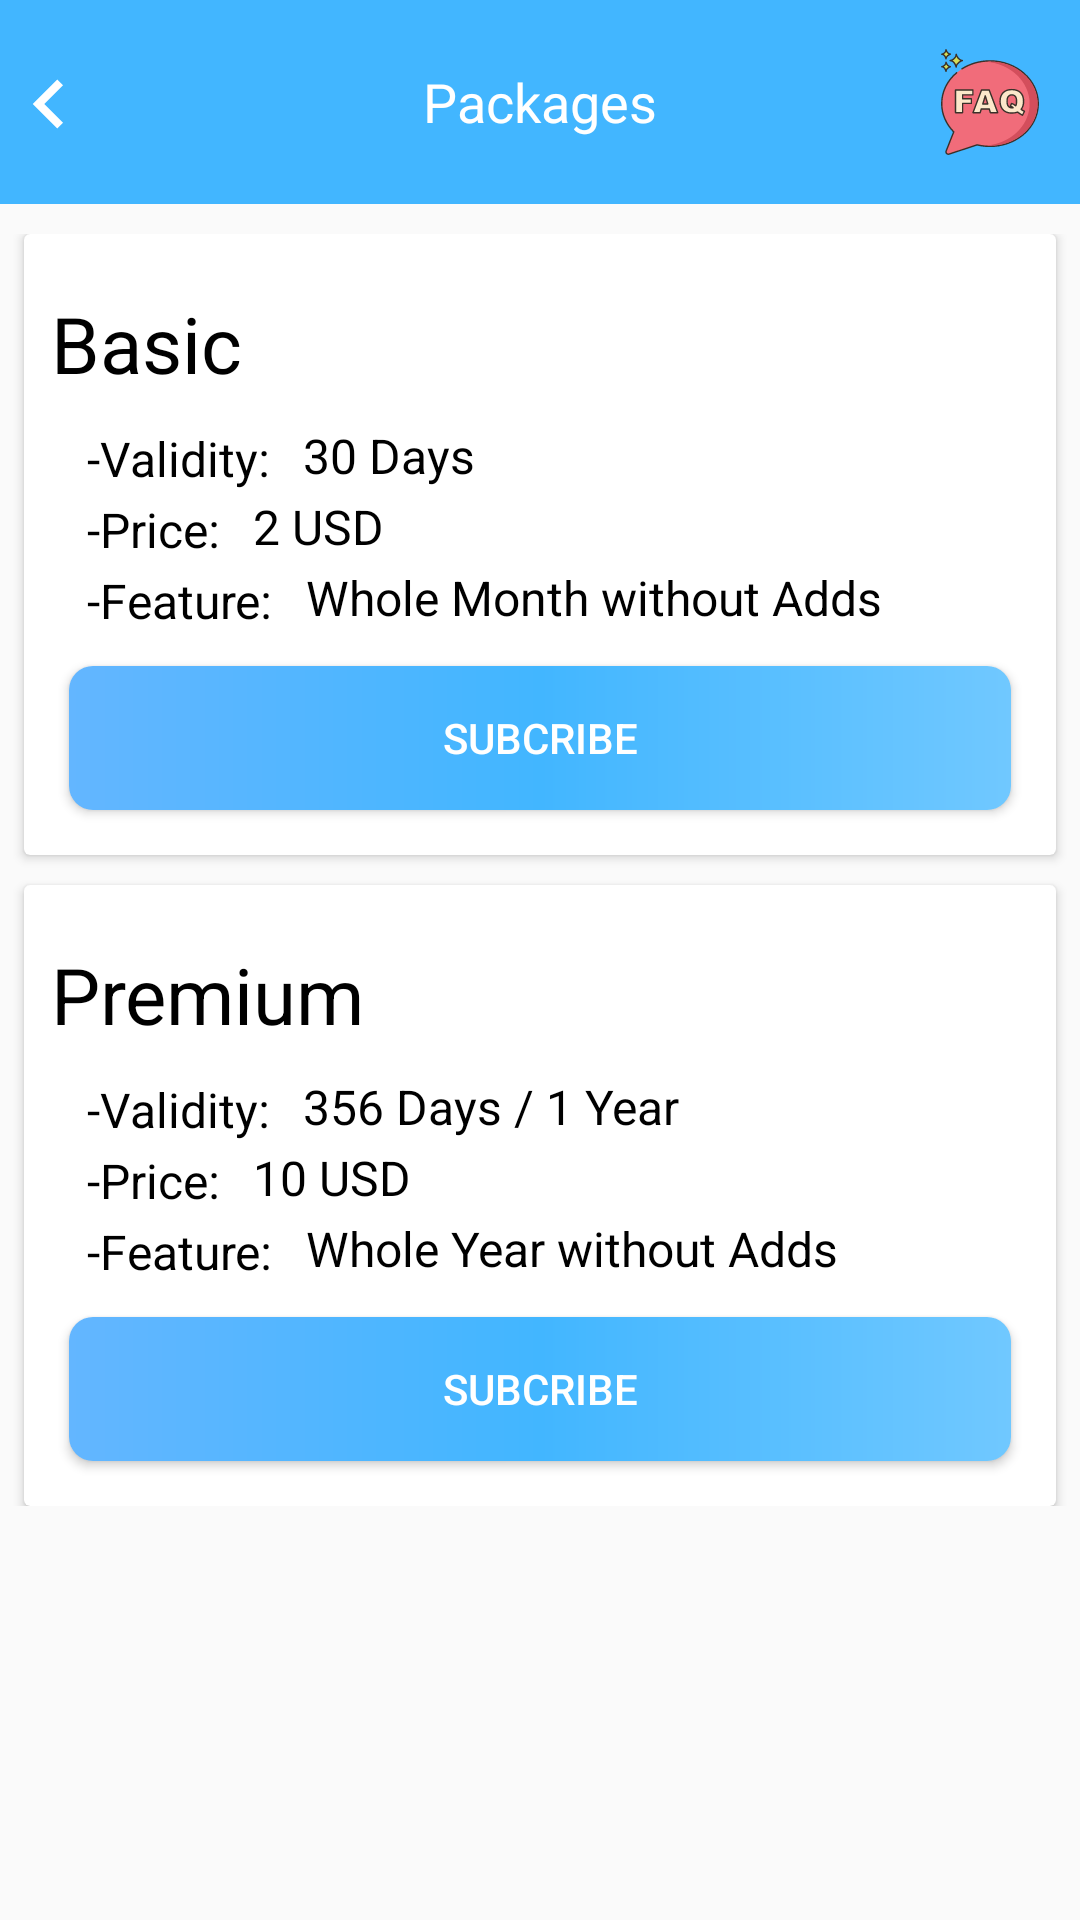

Icons on this 1080px x 1920px Android screen, each with the point to tap as (x=x, y=y):
keyboard arrow left: (x=48, y=104)
